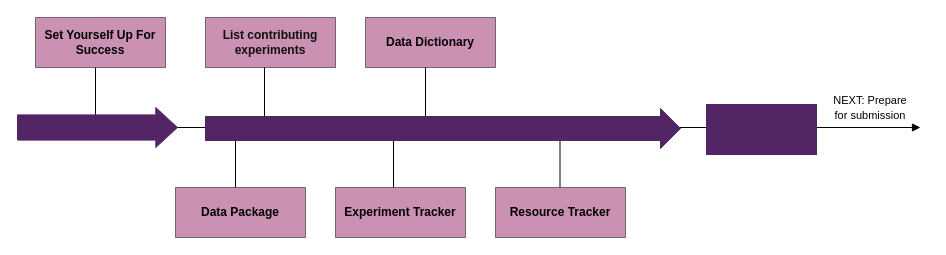
This 946x255 diagram has some shape labels left out. Here are the shapes that lost their labels. From the top down, the centre of each, then its label:
At (x=97, y=127): "Right Away".
At (x=442, y=128): "After Dataset-of-Interest Finalized".
At (x=761, y=129): "Finish Preparing Data Package Locally".
